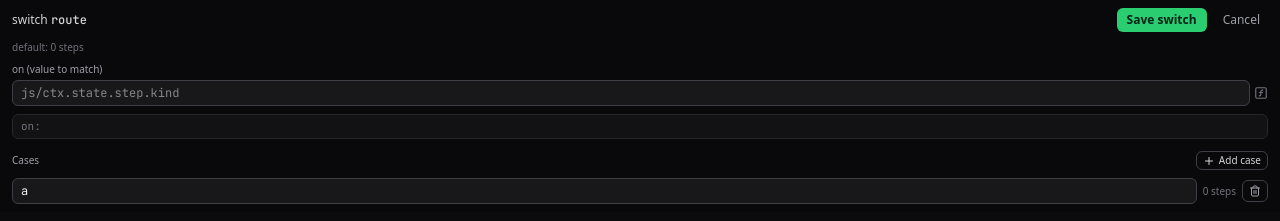
Scenario: SwitchEditor — upstream picker keeps the js/ prefix › picking an upstream field inserts the js/-prefixed expression verbatim (switch.on is mapper-resolved, not raw ctx)
Click the button titled "Insert a value from an upstream step": [1261, 93] box [1254,86,1268,100]
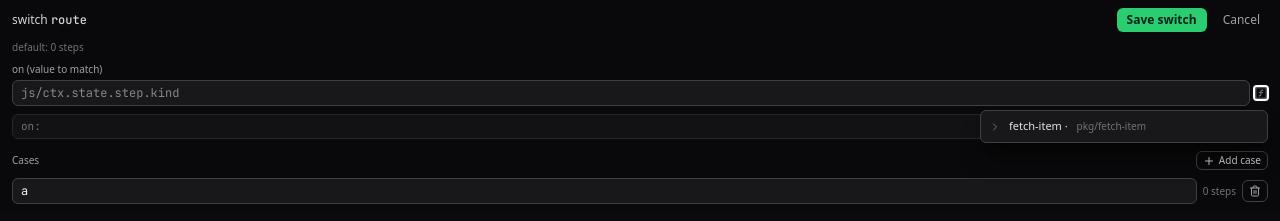
Click the button named "Expand fetch-item": [995, 127] box [985,117,1005,137]
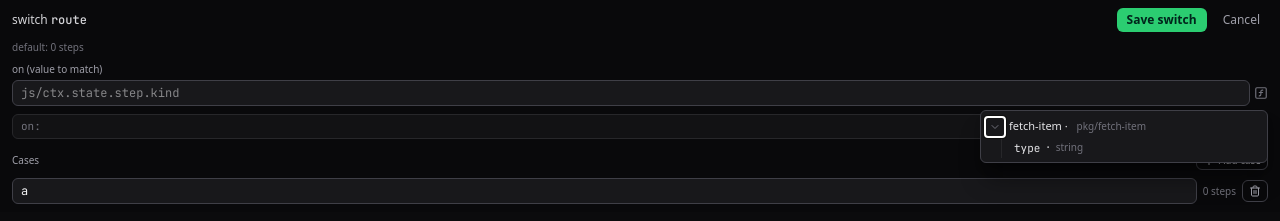
Click the button "type · string": [1136, 148] box [1010,138,1263,158]
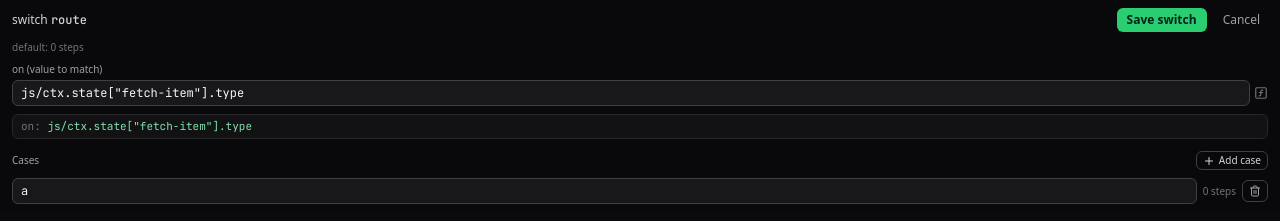
Expected: the field labelled "on" holds "js/ctx.state[\"fetch-item\"].type", [12,80,1250,106]
